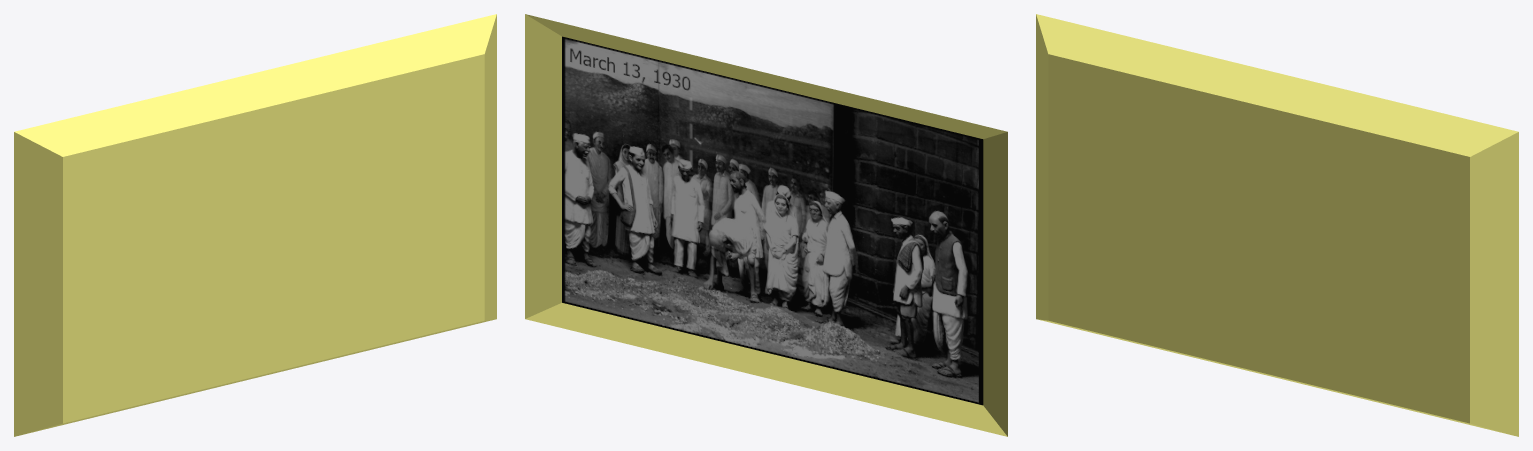
The model's file is dandi_march_Img.fbx.
3 views of the same model, side by side, from view 1: azimuth 30°, elevation 25°; view 2: azimuth 150°, elevation 25°; view 3: azimuth 330°, elevation 25° (orthographic).
Parts seen in each view (by area): view 1: Cube.001; view 2: Cube.001; view 3: Cube.001.
Part boxes in pixels (<box>): Cube.001: <box>14,14,496,436</box>; Cube.001: <box>525,14,1007,436</box>; Cube.001: <box>1036,14,1518,436</box>.
Bounding box in the file's own units: 4137 × 2498 × 271.
